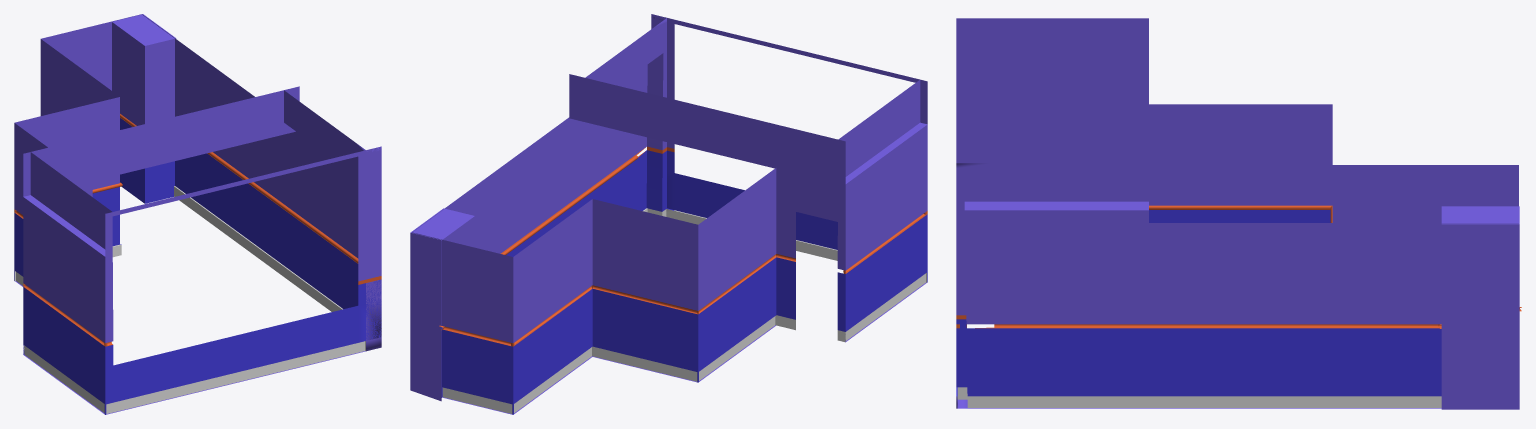
The model's file is room2.fbx.
3 renders of one model, left to right at view 1: azimuth 30°, elevation 25°; view 2: azimuth 150°, elevation 25°; view 3: azimuth 270°, elevation 25°, orthographic. The views are drawn at different scales.
Visible parts, largest first — view 1: Cube; view 2: Cube; view 3: Cube.
Part boxes in pixels (bbox=[...]): Cube: bbox=[14, 14, 381, 414]; Cube: bbox=[410, 14, 927, 414]; Cube: bbox=[956, 18, 1521, 409].
Bounding box in the file's own units: 535 × 379 × 804.
